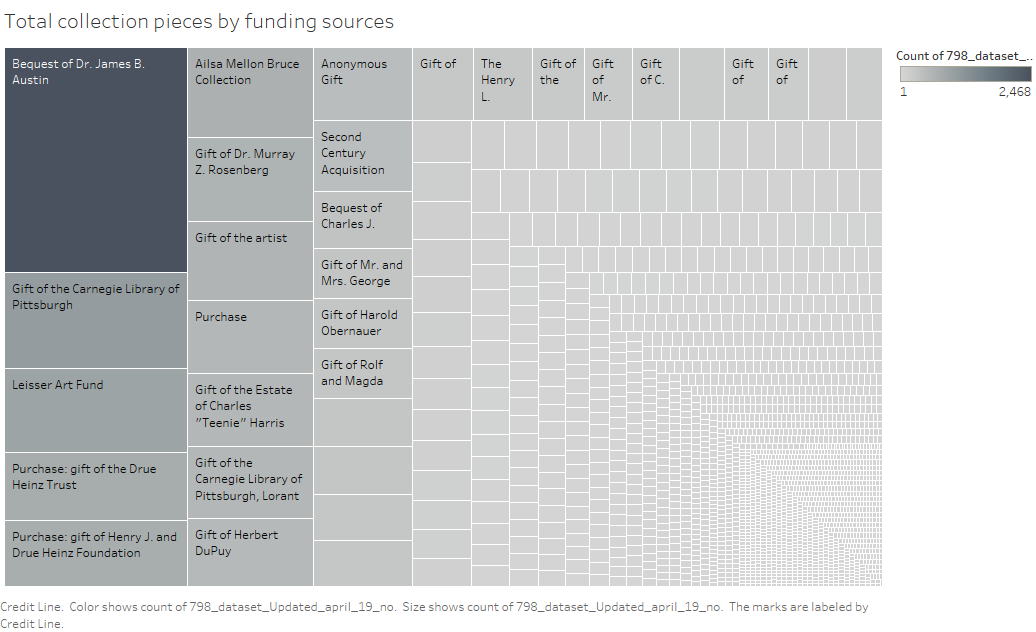

The dashboard page shown, as its layout file describes it:
{"tool":"tableau","page":{"name":"Dashboard 1","canvas":[1000,800],"ordinal":0},"visuals":[{"type":"worksheet","title":"Sheet 2","mark":"Automatic","rows":["798!data!only!not!on!view!rows_52761707DF0A46CA932B8A59ADC1F"],"cols":["date_acquired"],"box":[8,8,984,784]}]}

Visuals, with their boxes on the page's 1000x800 design canvas (x1, y1, x2, y2). These are canvas units, not pixel positions in the 1036x632 screenshot, which may show the page scaled, cropped or inside an application window:
"Sheet 2" worksheet: l=8, t=8, r=992, b=792
